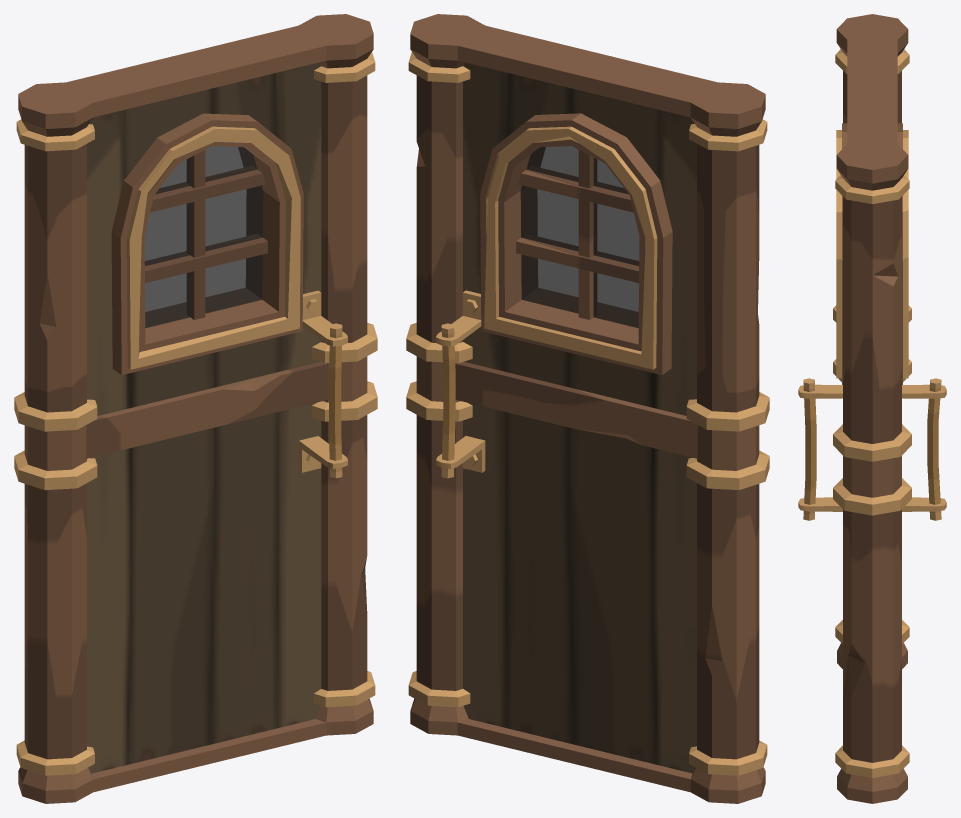
File: SM_Bld_Door_04.fbx
3 renders of one model, left to right at view 1: azimuth 30°, elevation 25°; view 2: azimuth 150°, elevation 25°; view 3: azimuth 270°, elevation 25°, orthographic. The views are drawn at different scales.
Parts seen in each view (by area): view 1: SM_Bld_Door_04, SM_Bld_Door_04_Glass; view 2: SM_Bld_Door_04, SM_Bld_Door_04_Glass; view 3: SM_Bld_Door_04.
Boxes of the visible parts, x1,y1,x2,y2 form: SM_Bld_Door_04: (14,14,377,803); SM_Bld_Door_04_Glass: (144,146,263,328); SM_Bld_Door_04: (406,14,769,803); SM_Bld_Door_04_Glass: (520,146,639,328); SM_Bld_Door_04: (798,14,946,803).
Size of the model in its own units: 106 by 197 by 41.74.
